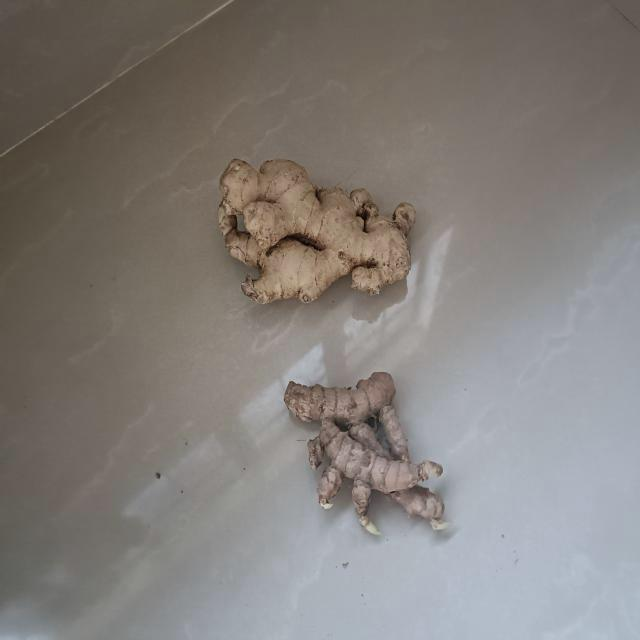ginger: (215, 154, 418, 311), (279, 370, 455, 540)
